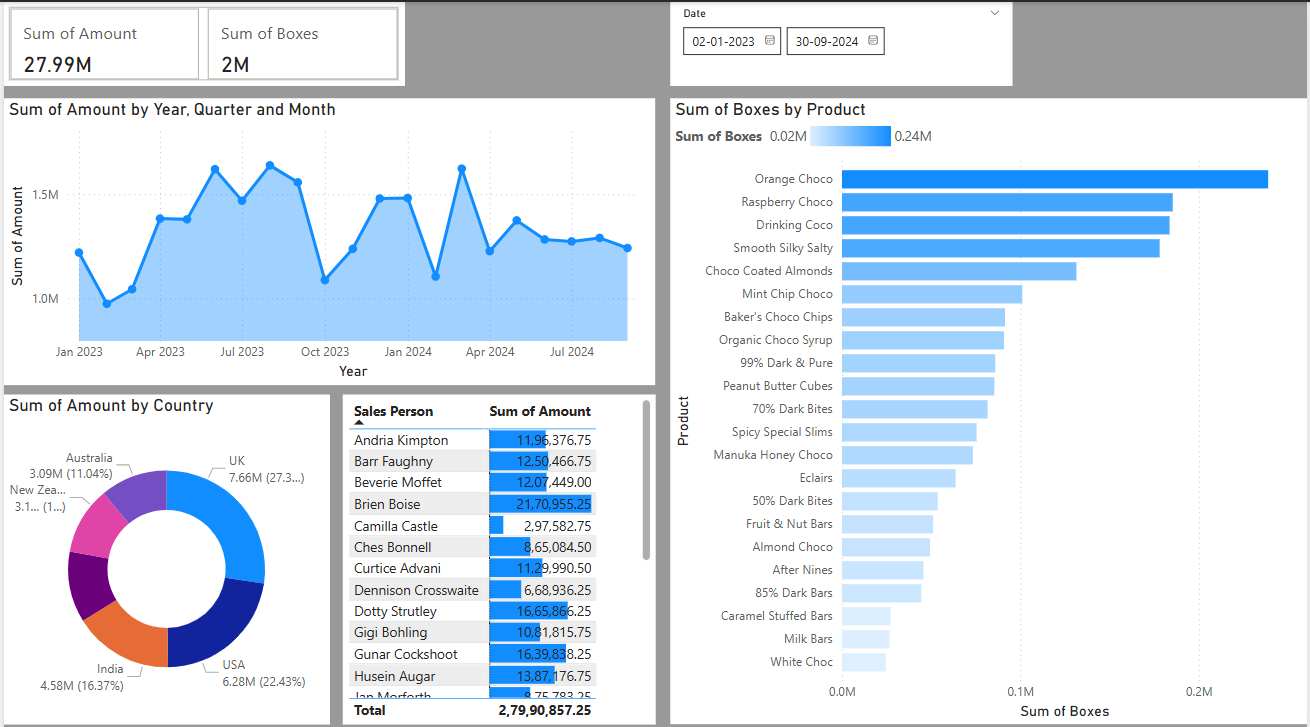

This screenshot's page, from the dashboard's own definition file:
{"tool":"powerbi","page":{"name":"Page 1","canvas":[1280,720],"ordinal":0},"visuals":[{"type":"lineChart","fields":{"Category":["data.Date.Variation.Date Hierarchy.Year","data.Date.Variation.Date Hierarchy.Quarter","data.Date.Variation.Date Hierarchy.Month","data.Date.Variation.Date Hierarchy.Day"],"Y":["data.Amount"]},"box":[0,94.7,639.5,281.3],"z":0},{"type":"donutChart","fields":{"Y":["data.Amount"],"Category":["data.Country"]},"box":[0,385.6,319.7,323.8],"z":1000},{"type":"tableEx","fields":{"Values":["data.Sales Person","data.Amount"]},"box":[332.1,385.6,307.4,323.8],"z":1001},{"type":"clusteredBarChart","fields":{"Y":["data.Boxes"],"Category":["data.Product"]},"box":[654.5,94.7,605.1,614.8],"z":1002},{"type":"cardVisual","fields":{"Data":["data.Amount","data.Boxes"]},"box":[0,0,393.8,82.3],"z":1003},{"type":"slicer","fields":{"Values":["data.Date"]},"box":[654.5,0,336.2,82.3],"z":1004}]}

Visuals, with their boxes in screenshot pixels (x1, y1, x2, y2), scaled from the page's 1280x720 canvas onto the 1310x727 screenshot:
lineChart - data.Date.Variation.Date Hierarchy.Year x data.Date.Variation.Date Hierarchy.Quarter: pyautogui.locateOnScreen(0, 96, 654, 380)
donutChart - data.Amount x data.Country: pyautogui.locateOnScreen(0, 389, 327, 716)
tableEx - data.Sales Person x data.Amount: pyautogui.locateOnScreen(340, 389, 654, 716)
clusteredBarChart - data.Boxes x data.Product: pyautogui.locateOnScreen(670, 96, 1289, 716)
cardVisual - data.Amount x data.Boxes: pyautogui.locateOnScreen(0, 0, 403, 83)
slicer - data.Date: pyautogui.locateOnScreen(670, 0, 1014, 83)
